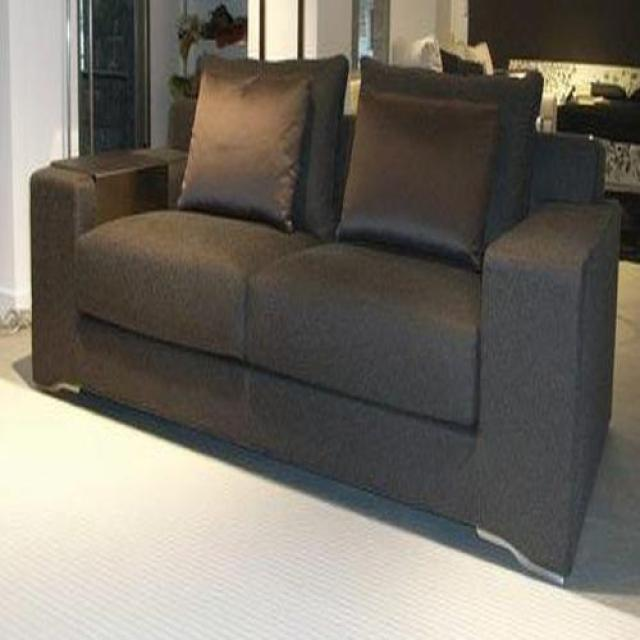sofa: (29, 55, 622, 584)
